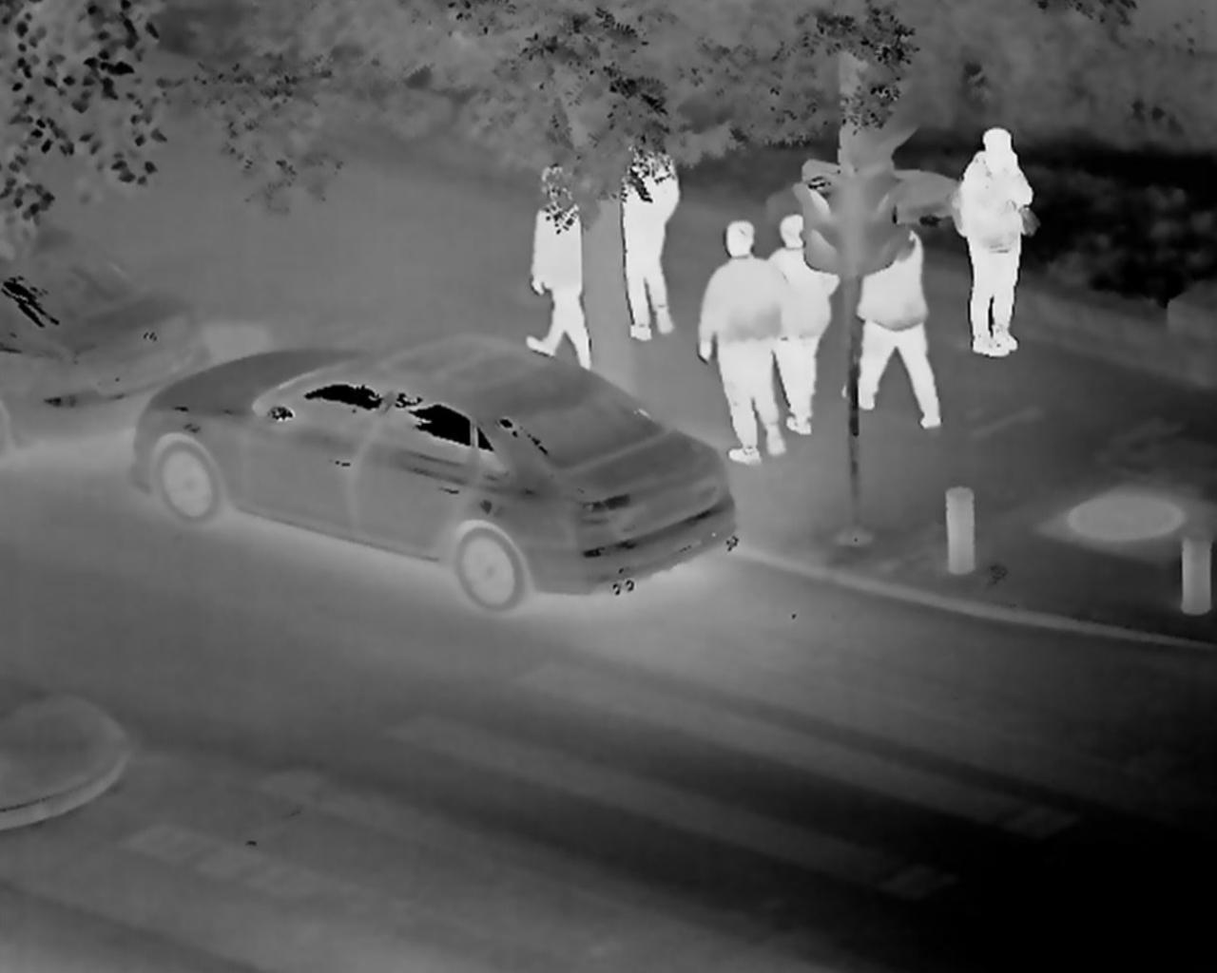person: (692, 224, 798, 471), (956, 122, 1039, 385), (849, 203, 940, 430), (512, 139, 592, 380), (606, 117, 690, 342), (764, 204, 839, 441)
